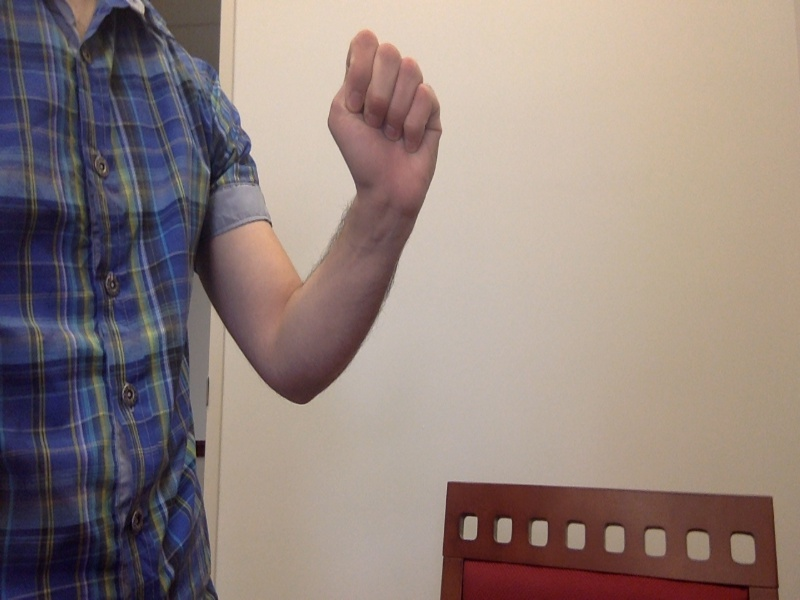0-hand: (327, 30, 444, 215)
